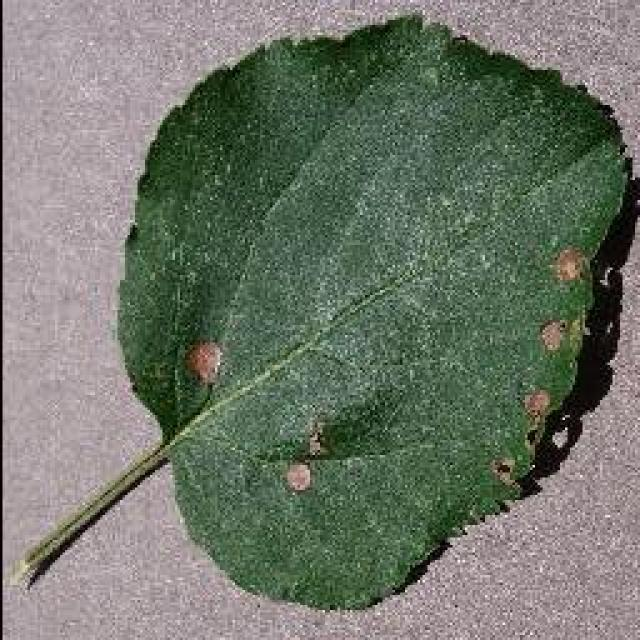Black_rot: (12, 10, 638, 612)
